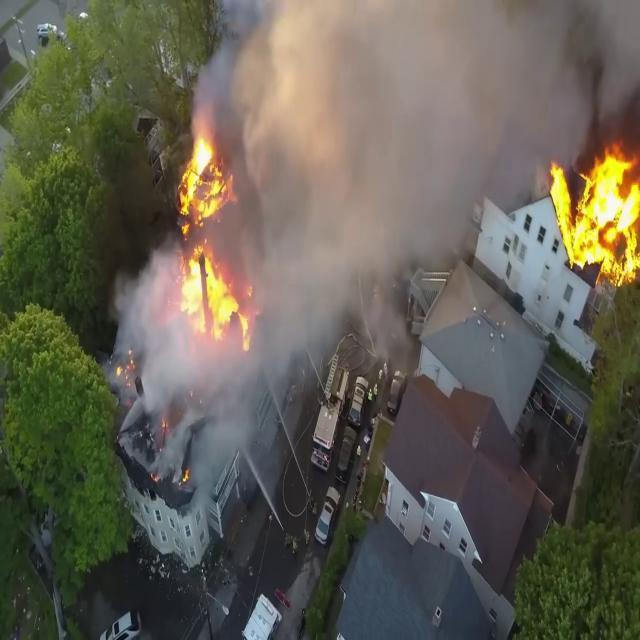Fire: (165, 130, 252, 360), (546, 138, 640, 288)
Smoke: (212, 0, 626, 346), (110, 246, 219, 434)
